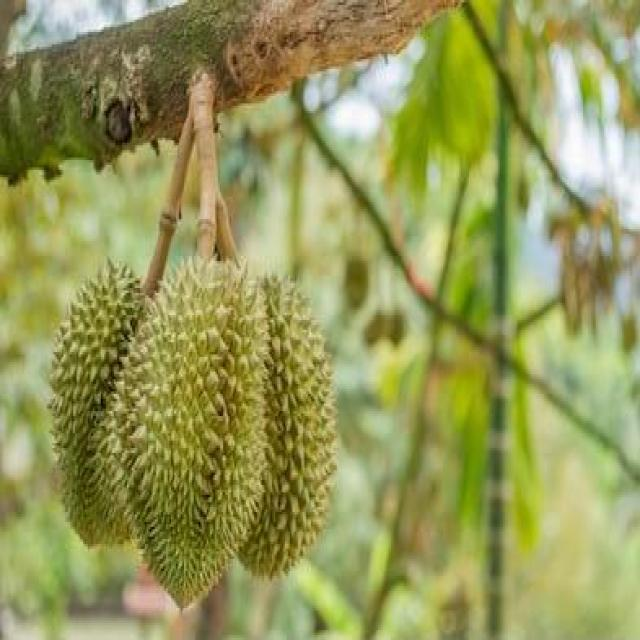immature: (119, 252, 272, 620), (227, 269, 340, 582), (44, 254, 146, 550)
